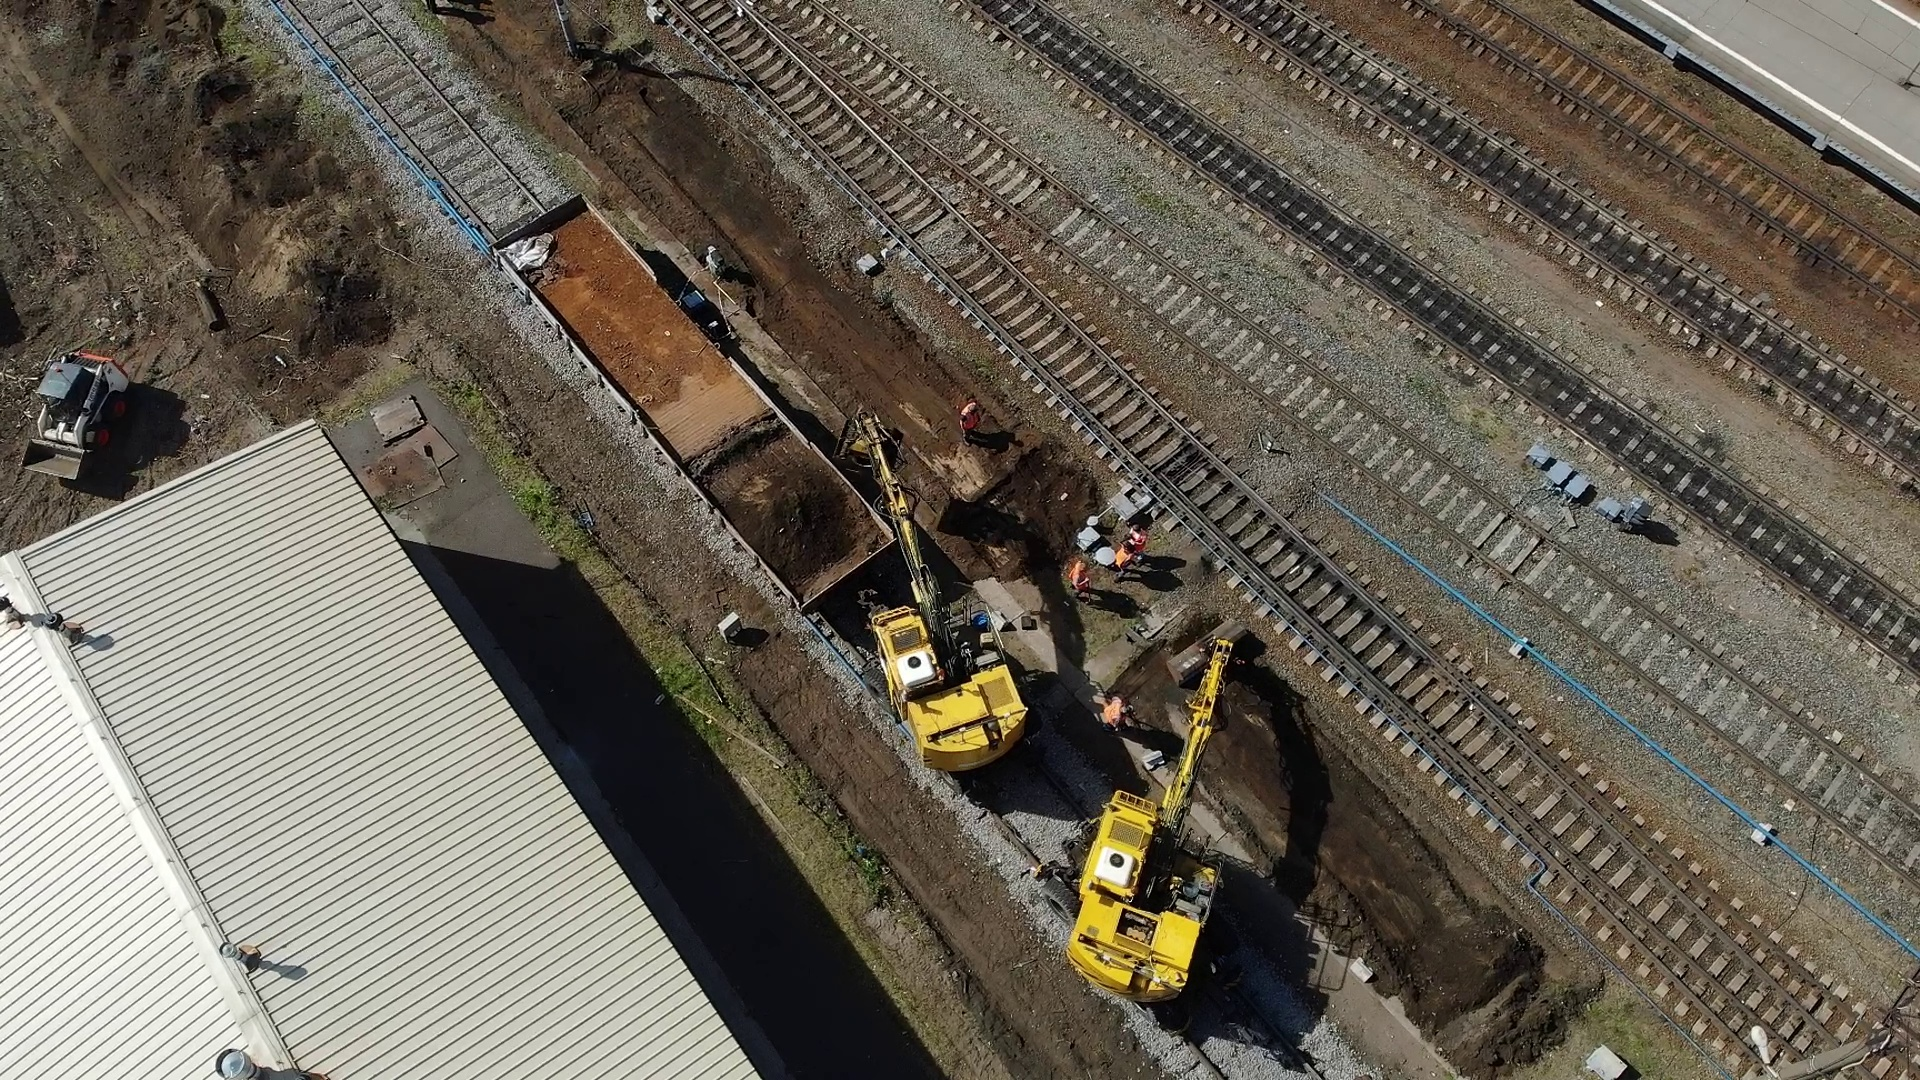kjtv: (1054, 716, 1217, 996), (872, 524, 1023, 777)
